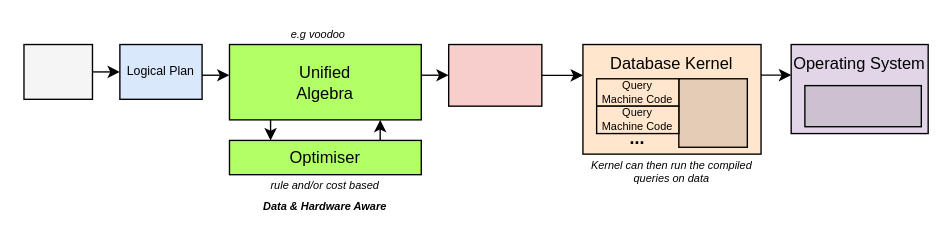
Some shapes in this 952 by 245 pixel diagram are drawn without their labels. The shapes that lost their labels are listed below. From the top down, each one's centre as x and y in pixels, then its label:
the point at 57,71: SQL
the point at 494,74: Machine Code
the point at 712,112: Database state
the point at 862,105: Hardware
